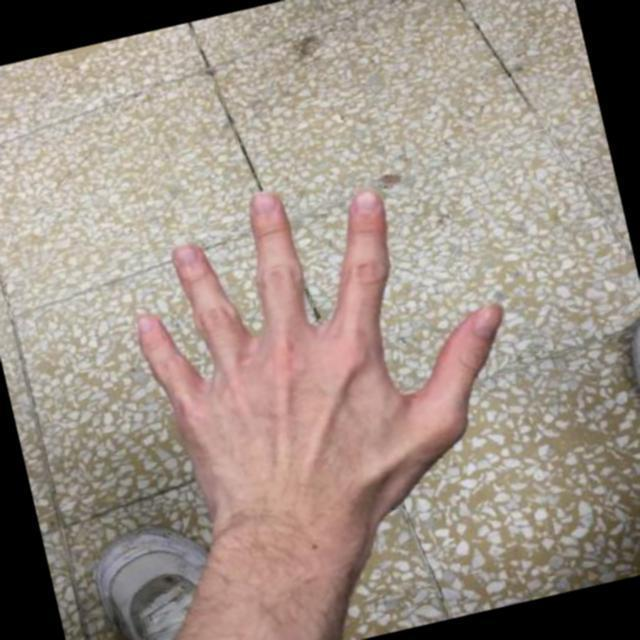hand: (70, 131, 556, 582)
